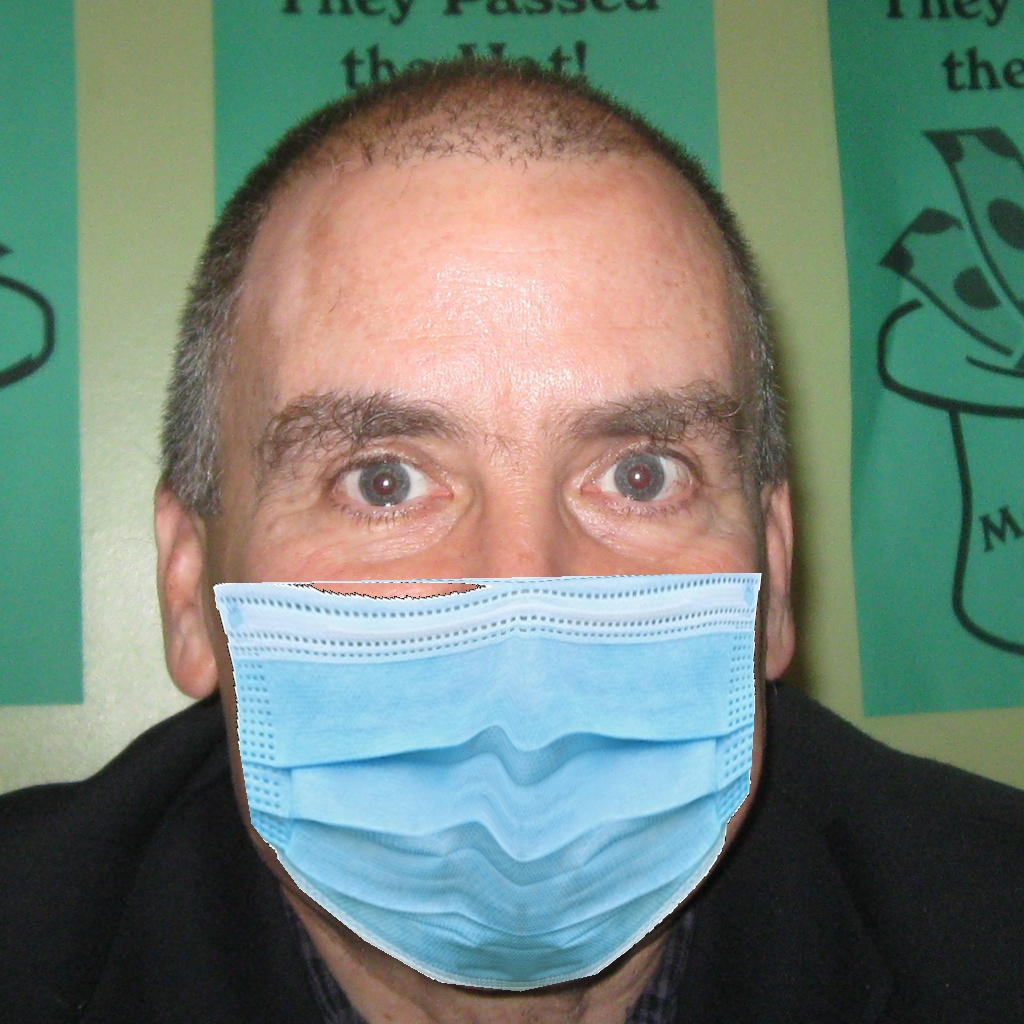Mask: (210, 360, 773, 989)
